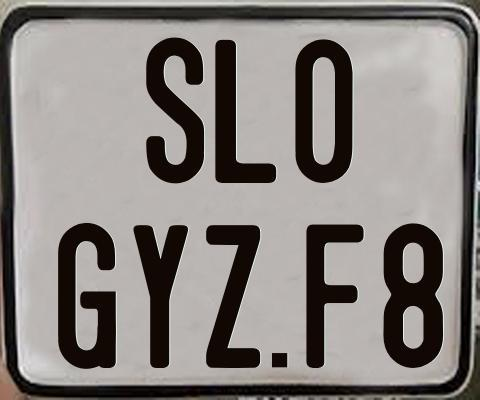0: (294, 36, 358, 180)
8: (382, 223, 445, 373)
F: (306, 222, 366, 369)
G: (58, 223, 116, 373)
L: (212, 40, 276, 183)
S: (143, 36, 205, 187)
Y: (133, 225, 191, 369)
Z: (205, 222, 261, 365)
